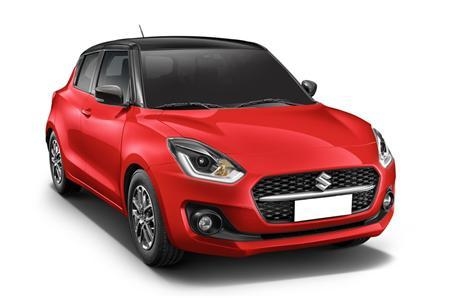Hatchback: (42, 33, 398, 267)
